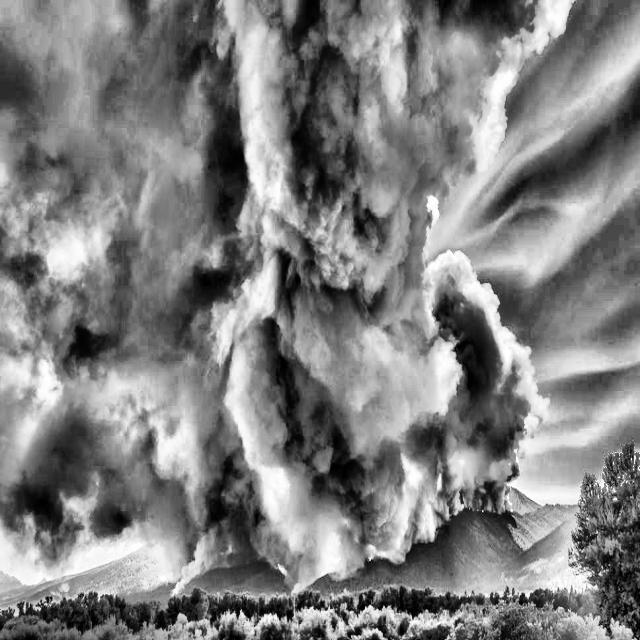fire: (133, 422, 540, 621)
